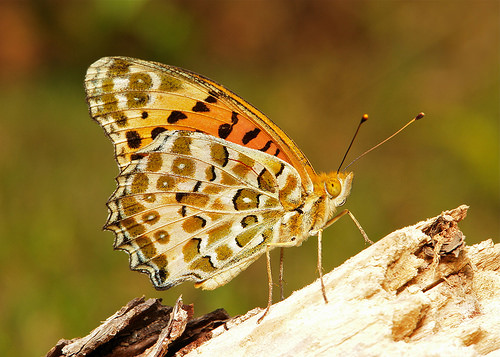Argyreus hyperbius: (78, 50, 424, 329)
butterfly: (80, 52, 426, 331)
